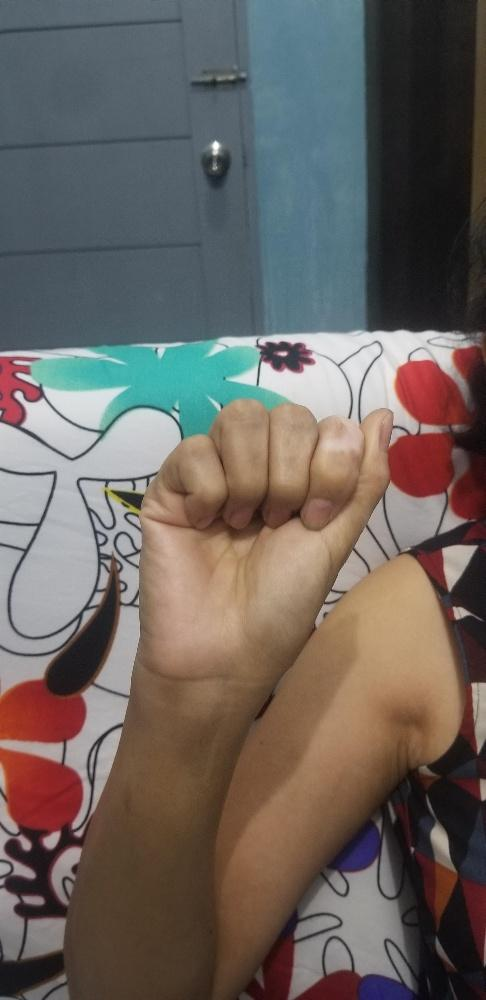a: (134, 393, 397, 690)
